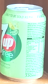sevenup: (1, 4, 46, 83)
